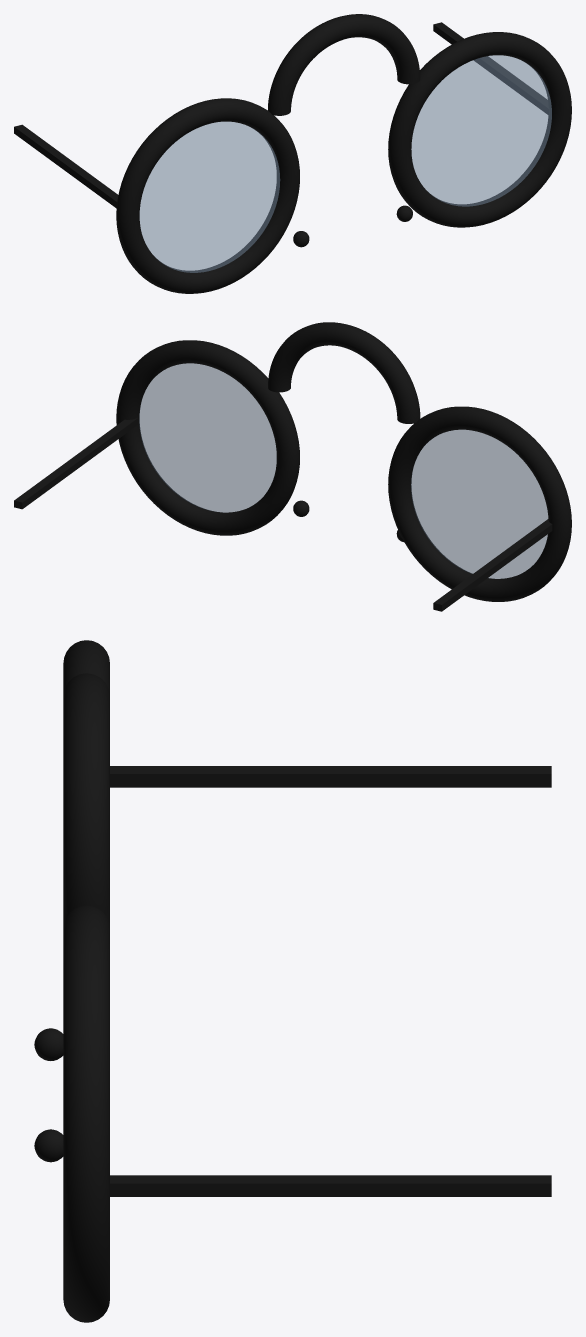
The model's file is glasses.glb.
3 renders of one model, top to bottom at view 1: azimuth 30°, elevation 25°; view 2: azimuth 150°, elevation 25°; view 3: azimuth 270°, elevation 25°, orthographic. The views are drawn at different scales.
Parts seen in each view (by area): view 1: leftLens, rightLens, leftRim, rightRim, bridge, rightTemple, leftTemple; view 2: rightLens, leftLens, rightRim, leftRim, bridge, leftTemple, rightTemple; view 3: rightRim, bridge, leftTemple, rightTemple, leftRim.
Part boxes in pixels (x1,y1,x2,y2): leftLens: [139, 121, 280, 272]; rightLens: [411, 55, 551, 206]; leftRim: [116, 98, 299, 293]; rightRim: [388, 32, 571, 227]; bridge: [268, 14, 420, 115]; rightTemple: [14, 124, 118, 208]; leftTemple: [433, 22, 549, 115]; rightLens: [139, 363, 276, 512]; leftLens: [411, 429, 548, 578]; rightRim: [116, 340, 299, 535]; leftRim: [388, 406, 571, 601]; bridge: [268, 322, 420, 423]; leftTemple: [14, 418, 138, 509]; rightTemple: [433, 519, 552, 611]; rightRim: [63, 905, 109, 1322]; bridge: [63, 673, 109, 914]; leftTemple: [110, 1175, 551, 1196]; rightTemple: [110, 766, 551, 787]; leftRim: [63, 640, 109, 927].
Size of the model in its own units: 3.5 by 1.78 by 1.73.
